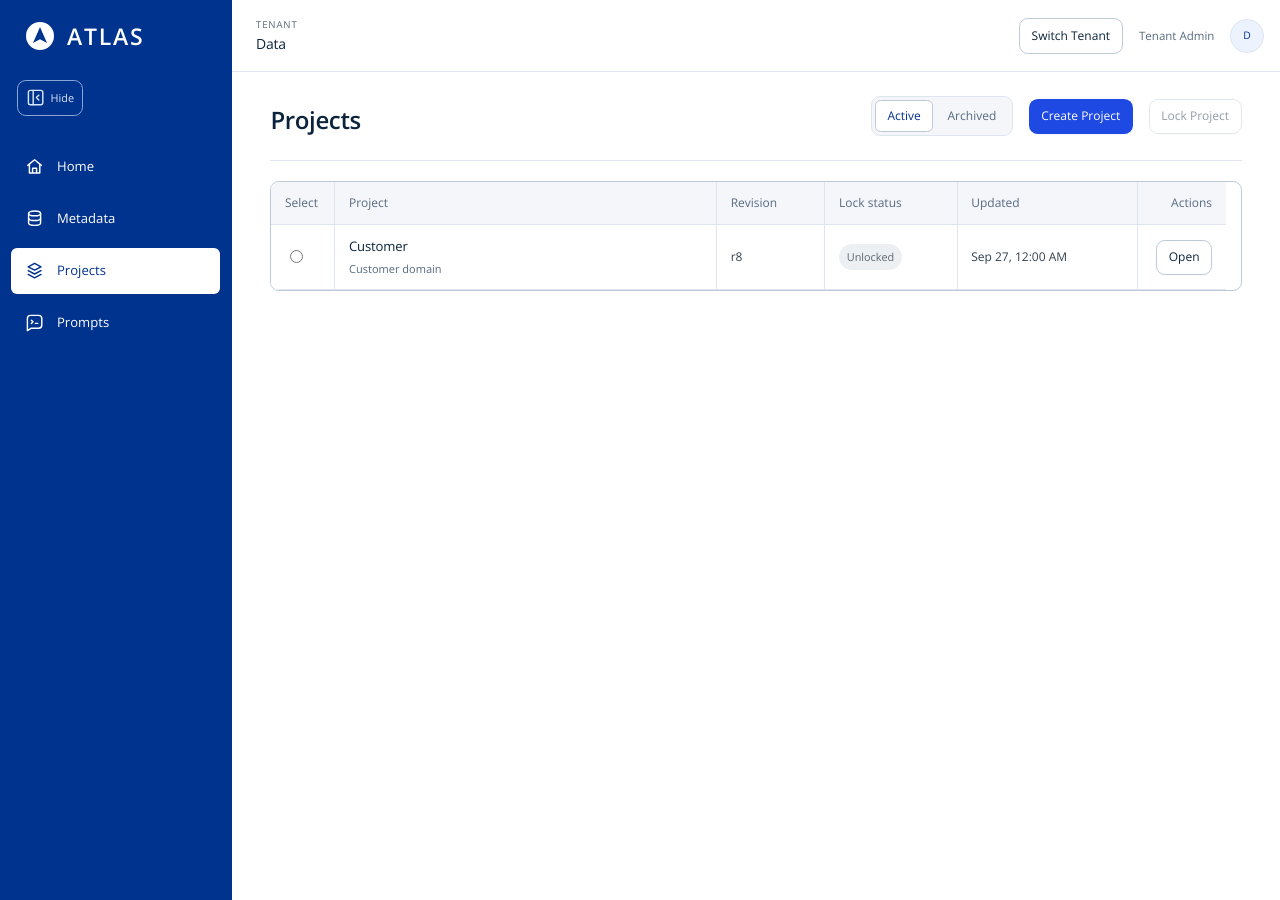
Projects ledger lock › preserves selection and reports a safe failure without claiming the Project is locked
Click the radio button named "Select Customer" at (296, 256), box top-left (290, 250), bottom-right (303, 263)
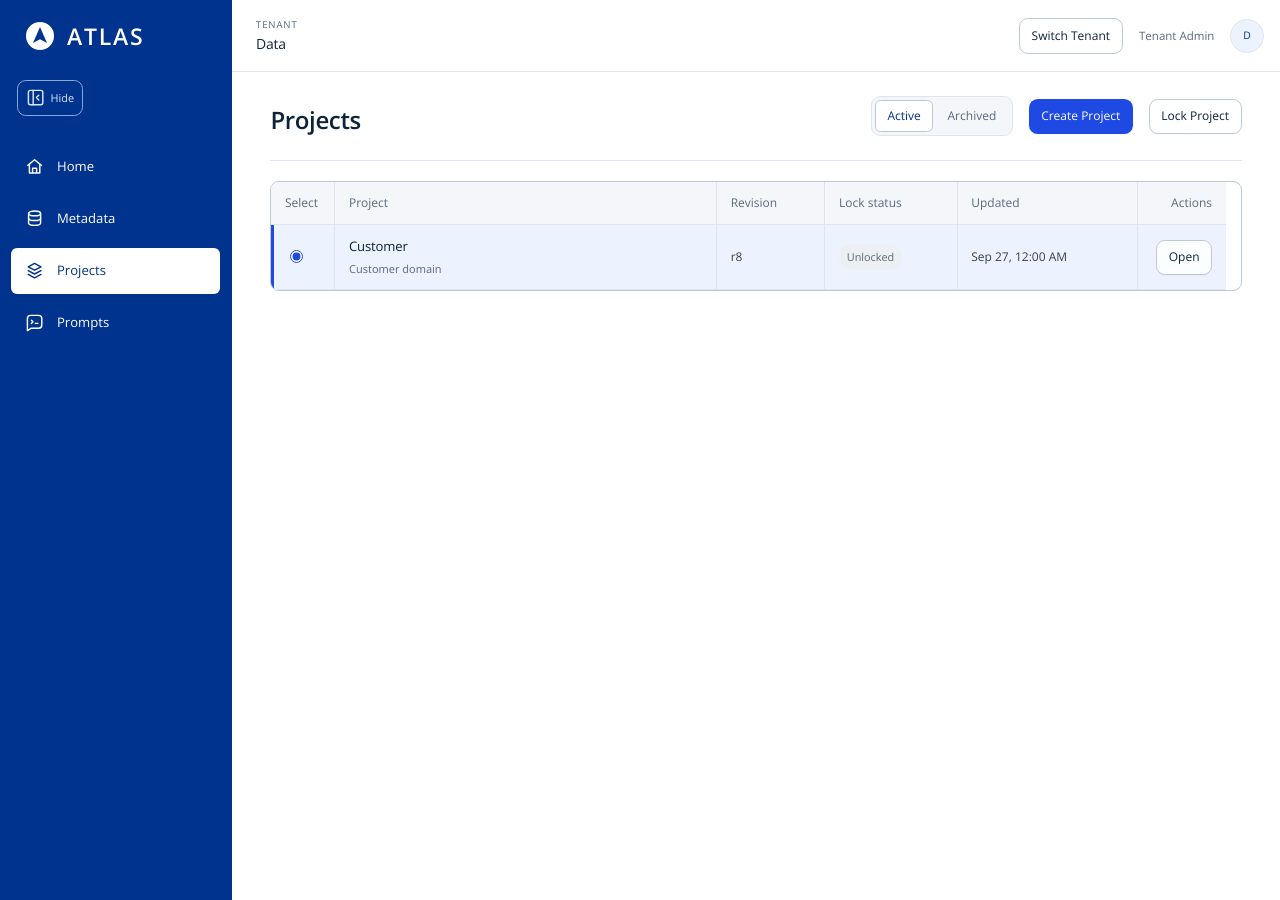
Click the button "Lock Project" at (1195, 116), box top-left (1149, 99), bottom-right (1242, 134)
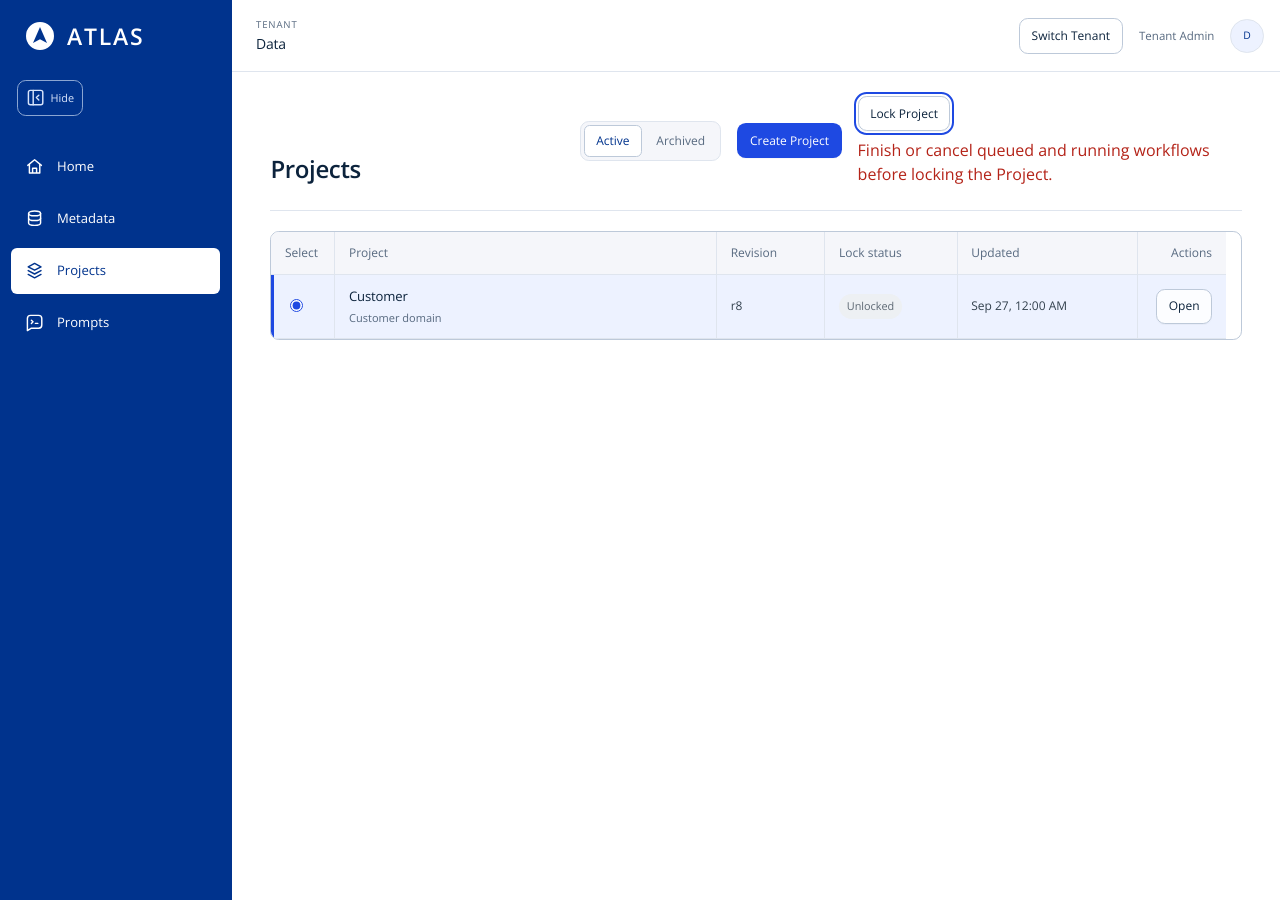
Expected: the text "Unlocked" is shown, top-left (839, 294), bottom-right (902, 319)
Result: the radio button named "Select Customer" is checked at top-left (290, 299), bottom-right (303, 312)
Result: the message shows "Finish or cancel queued and running workflows" at top-left (858, 139), bottom-right (1210, 185)
